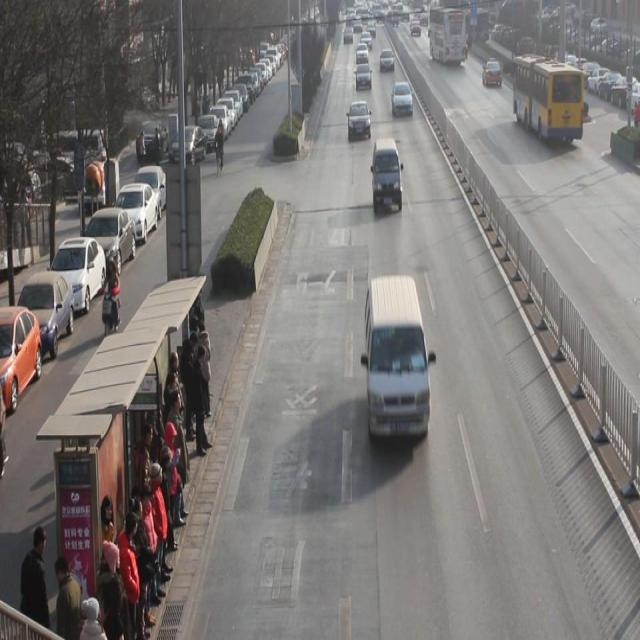car: (348, 102, 372, 141), (392, 82, 414, 120), (482, 61, 503, 88), (355, 64, 372, 92)
truck: (364, 278, 430, 444), (372, 137, 403, 217)
van: (511, 55, 582, 144)
